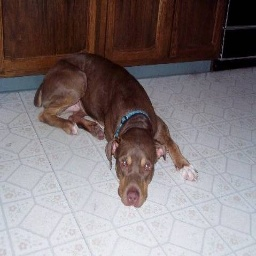dog: (32, 48, 202, 211)
